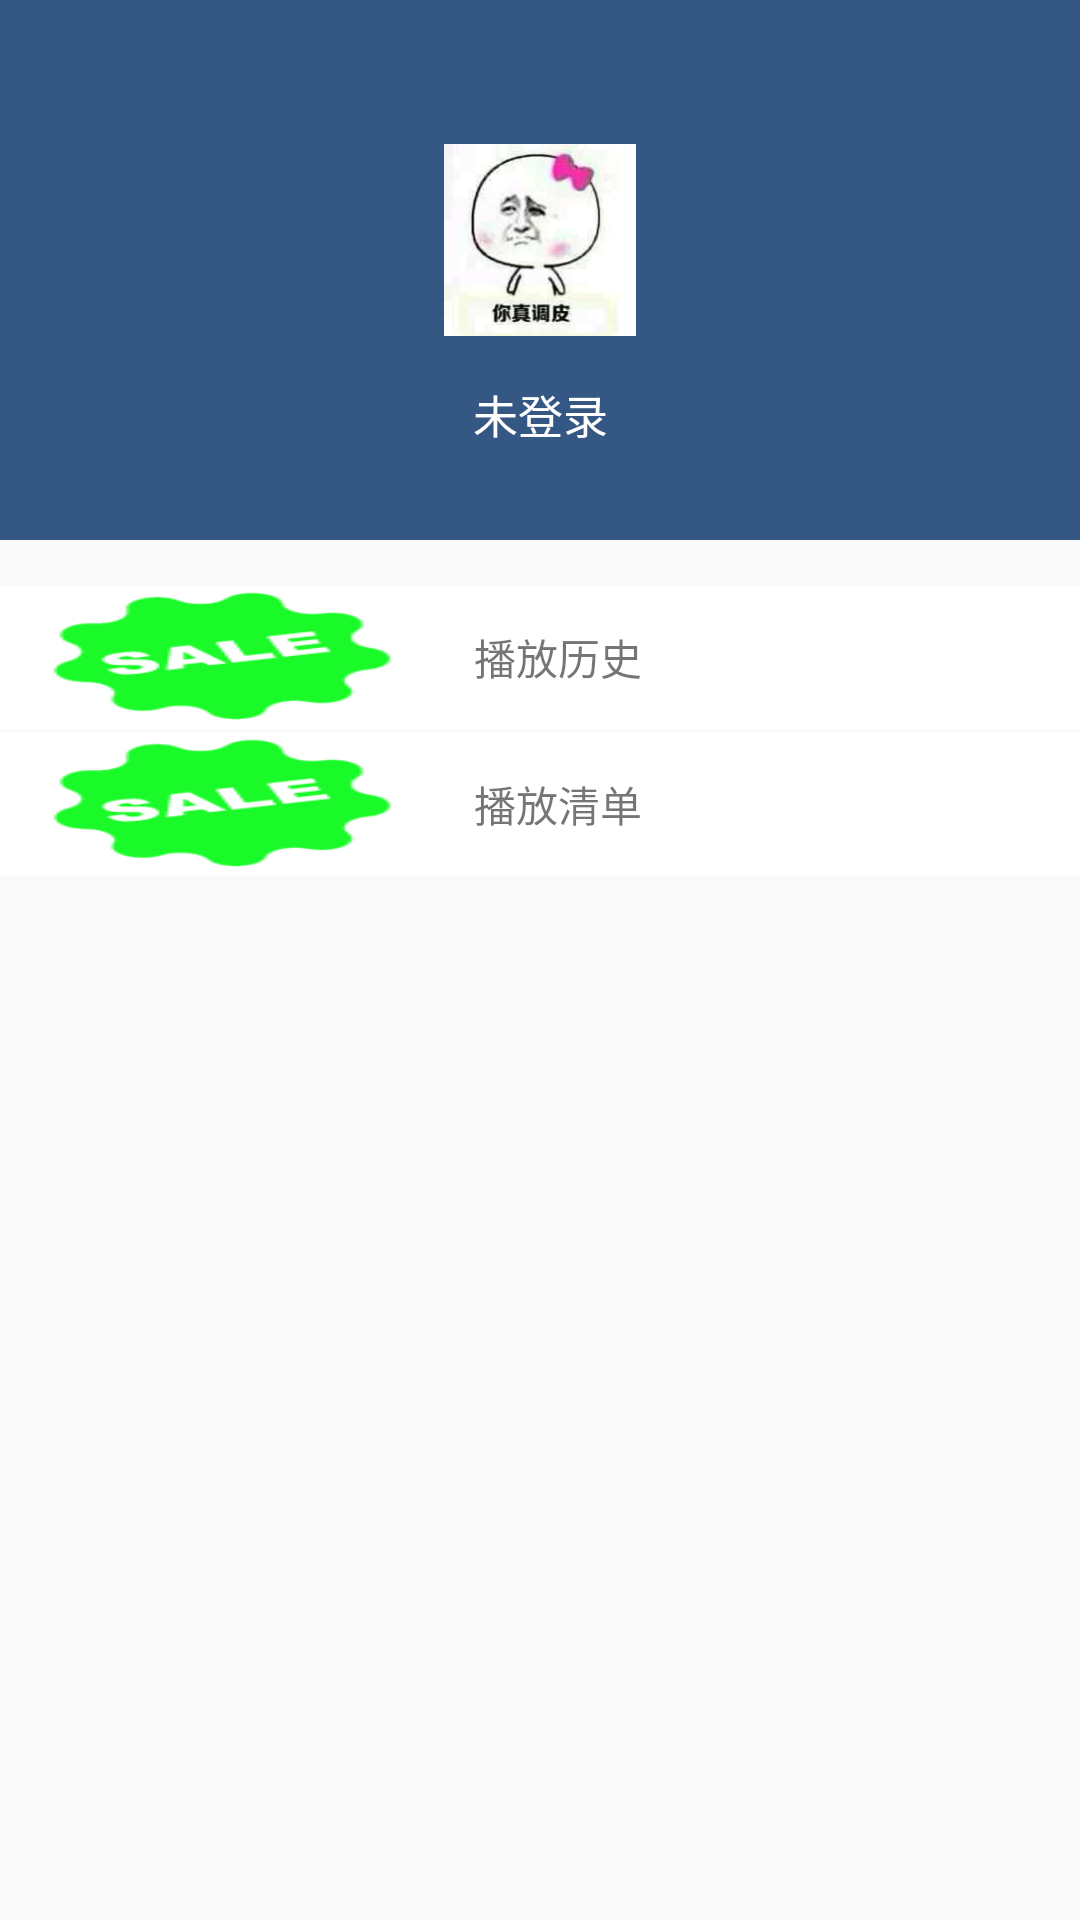

Icons on this 1080x1920 Android screen, each with the point to tap as point (x, y):
head: point (540, 240)
